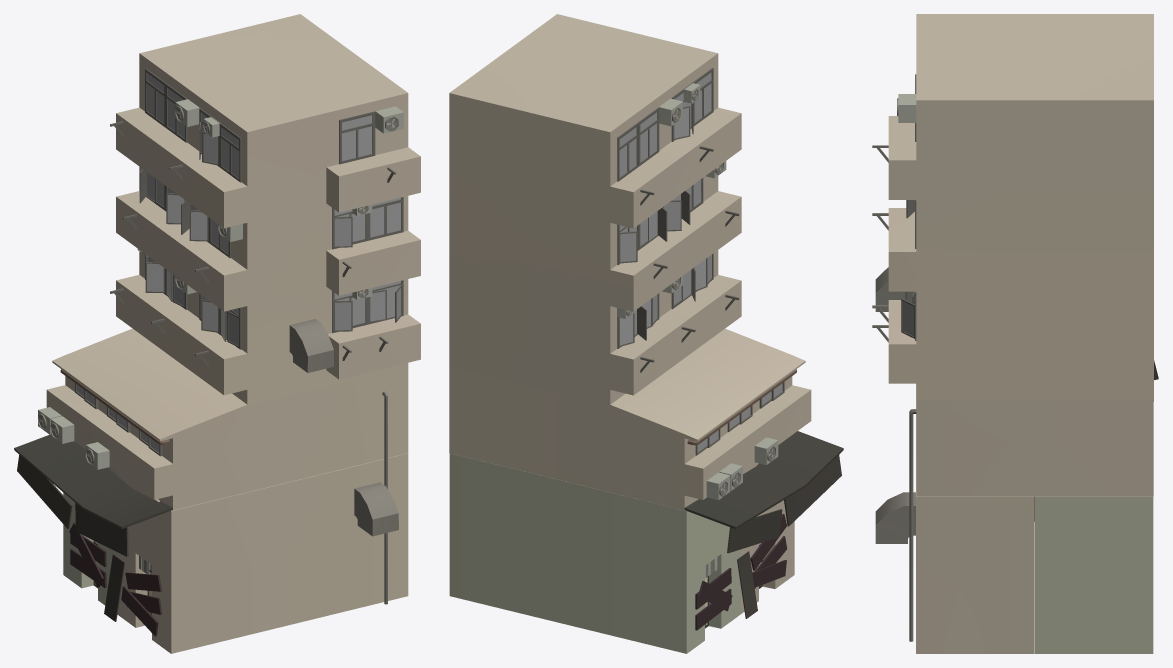
File: locked_shops.fbx
The picture shows the model from 3 angles, left to right: view 1: azimuth 30°, elevation 25°; view 2: azimuth 150°, elevation 25°; view 3: azimuth 270°, elevation 25°; orthographic projection. The views are drawn at different scales.
Visible parts, largest first — view 1: polySurface1601, polySurface1631, polySurface1298, polySurface1620, polySurface1722, polySurface1719, polySurface1635, polySurface1625, polySurface1626, polySurface1533, polySurface1720, polySurface1664 (+8 smaller); view 2: polySurface1601, polySurface1635, polySurface1298, polySurface1620, polySurface1625, polySurface1626, polySurface1631, polySurface1533, polySurface1841, polySurface1666; view 3: polySurface1601, polySurface1298, polySurface1631, polySurface1635, polySurface1719, polySurface1720, polySurface1722, polySurface1759, polySurface1729.
Boxes of the visible parts, x1,y1,x2,y2 form: polySurface1601: (116,14,420,405); polySurface1631: (117,453,408,653); polySurface1298: (46,328,408,510); polySurface1620: (14,434,172,528); polySurface1722: (289,319,333,372); polySurface1719: (354,482,398,536); polySurface1635: (63,467,117,605); polySurface1625: (75,503,128,556); polySurface1626: (17,455,72,528); polySurface1533: (104,554,124,621); polySurface1720: (382,391,387,604); polySurface1664: (121,586,158,636); polySurface1601: (449,14,741,406); polySurface1635: (449,453,740,653); polySurface1298: (449,328,811,510); polySurface1620: (684,431,843,529); polySurface1625: (784,455,841,526); polySurface1626: (727,509,782,553); polySurface1631: (740,462,794,613); polySurface1533: (737,551,757,618); polySurface1841: (619,231,637,263); polySurface1666: (698,581,732,611); polySurface1601: (888,14,1153,401); polySurface1298: (916,400,1153,496); polySurface1631: (916,384,1034,653); polySurface1635: (1035,496,1153,653); polySurface1719: (875,492,915,543); polySurface1720: (909,409,916,641); polySurface1722: (875,267,905,311); polySurface1759: (897,94,916,122); polySurface1729: (901,298,914,338).
Bounding box in the file's own units: 86.26 × 145 × 67.88.
Materials: 3 (1 with a texture image).
